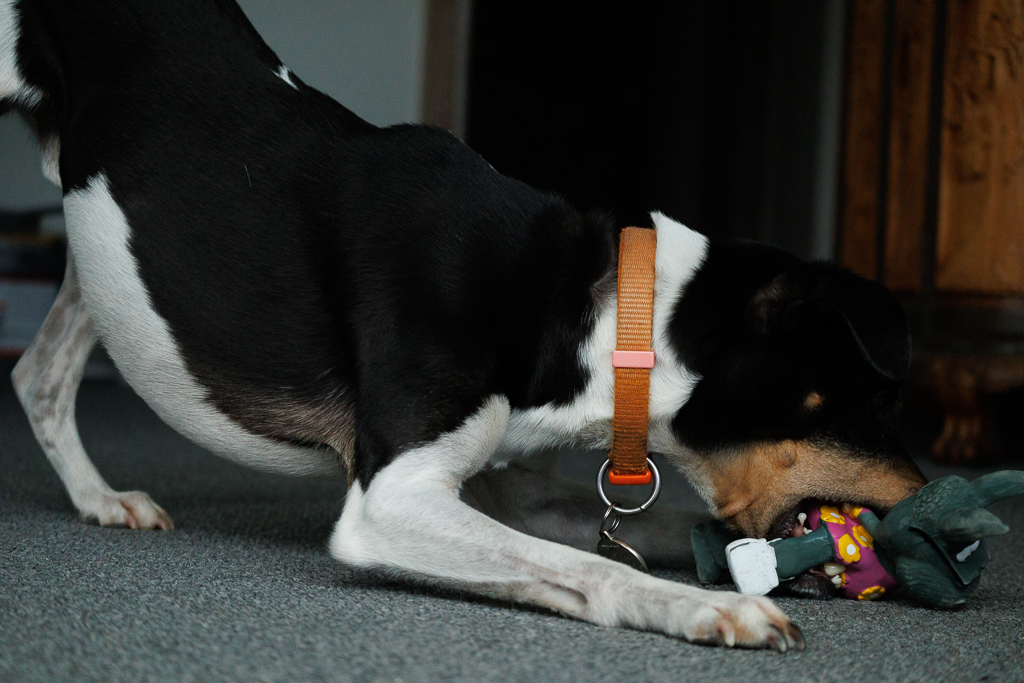Dog: (0, 0, 966, 660)
Humanoid: (669, 461, 1024, 615)
